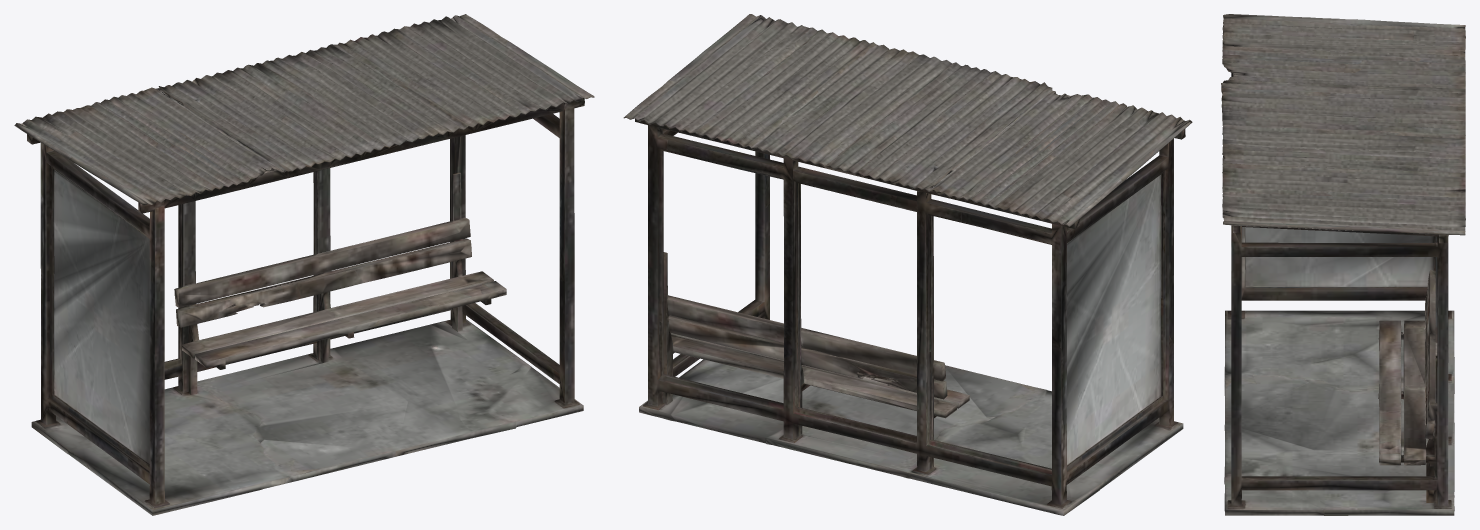
File: busstop.glb
The picture shows the model from 3 angles, left to right: view 1: azimuth 30°, elevation 25°; view 2: azimuth 150°, elevation 25°; view 3: azimuth 270°, elevation 25°; orthographic projection. The views are drawn at different scales.
Bounding box in the file's own units: 1.9 × 1.28 × 0.9379.
1 material, 1 textured.
